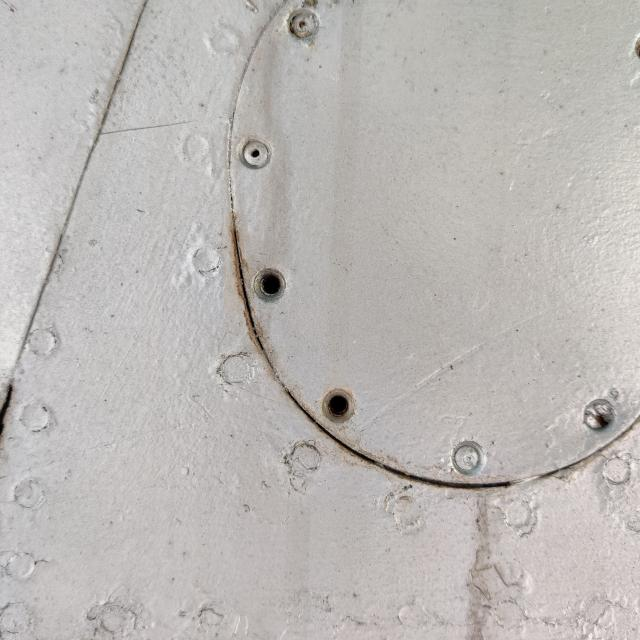missing-head: (309, 369, 384, 442), (232, 245, 303, 320)
